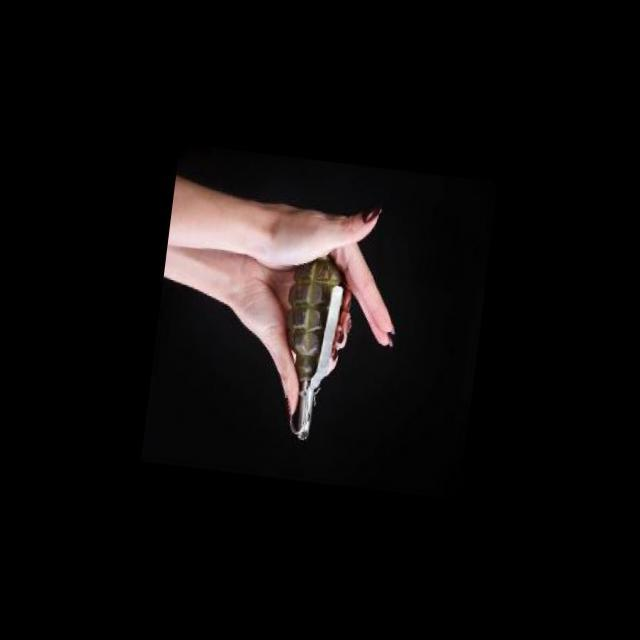grenade: (266, 252, 368, 446)
